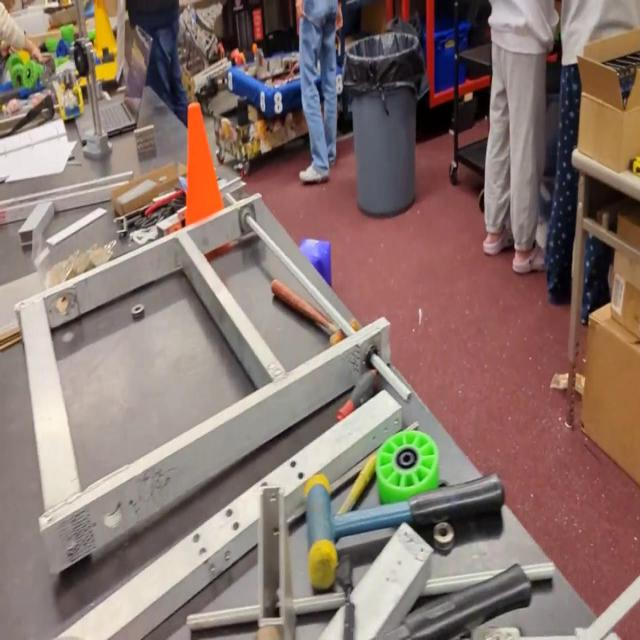frc_cone: (89, 0, 117, 58)
frc_cube: (298, 235, 334, 289)
